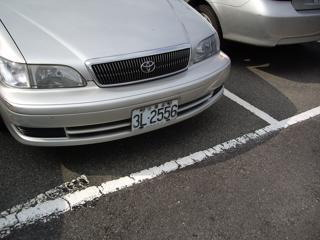plate: (129, 102, 180, 128)
